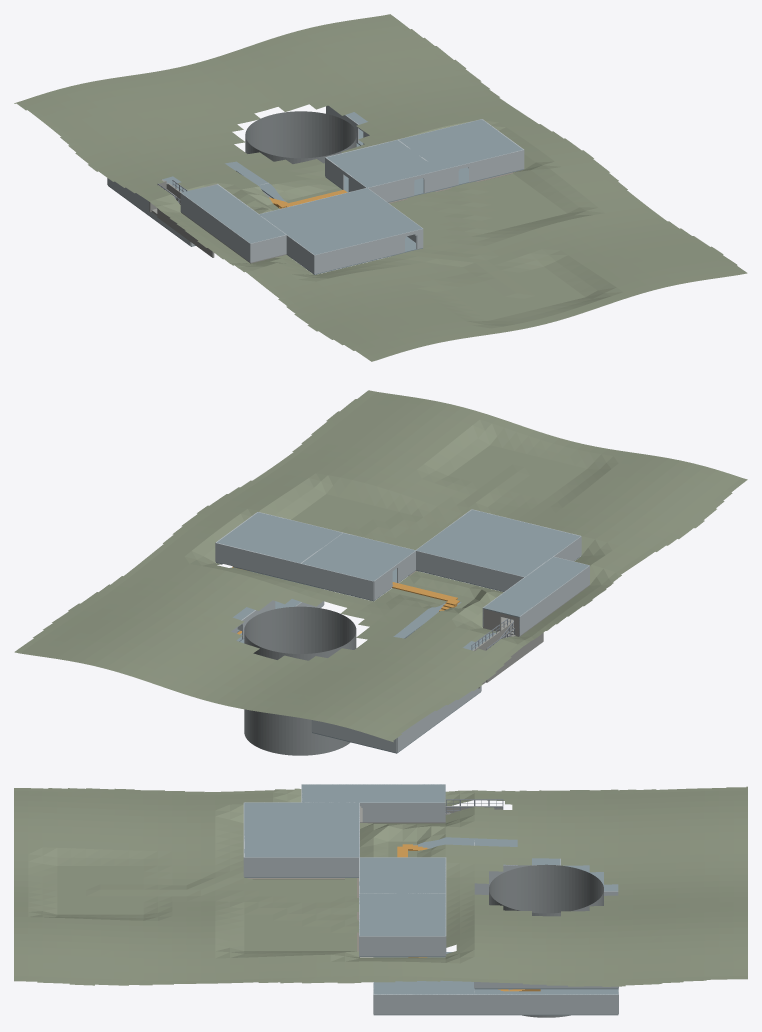
File: constant-cells.glb
3 renders of one model, top to bottom at view 1: azimuth 30°, elevation 25°; view 2: azimuth 150°, elevation 25°; view 3: azimuth 270°, elevation 25°, orthographic. The views are drawn at different scales.
Visible parts, largest first — view 1: Saved editor rectangular stair-cell terrain WLD-18, Ceiling cap servicehouse, EMPTY SHAFT / guard engineering pending, Ceiling cap shop, Ceiling cap head, Ceiling cap exit, Flat route shell Wall servicehouse S, Wall exit W, Flat route shell Wall shop S.001, Flat route shell Wall head S, Wall exit S, Wall servicehouse W.001; view 2: Saved editor rectangular stair-cell terrain WLD-18, EMPTY SHAFT / guard engineering pending, Ceiling cap servicehouse, Ceiling cap shop, Ceiling cap head, Ceiling cap exit, Flat route shell Wall servicehouse N, Wall shop N, Wall head N, Wall exit W, Wall pump N, Wall pump W; view 3: Saved editor rectangular stair-cell terrain WLD-18, Ceiling cap servicehouse, EMPTY SHAFT / guard engineering pending, Ceiling cap shop, Ceiling cap head, Wall east E, Ceiling cap exit, Wall servicehouse E, Wall plant E, Wall shop E, Flat route shell Wall exit E, Ceiling cap plant (+2 smaller).
Part boxes in pixels (box(x1,y1,x2,y2)): Saved editor rectangular stair-cell terrain WLD-18: box(14, 14, 747, 361); Ceiling cap servicehouse: box(259, 188, 422, 254); EMPTY SHAFT / guard engineering pending: box(245, 111, 356, 256); Ceiling cap shop: box(399, 119, 522, 170); Ceiling cap head: box(326, 140, 438, 187); Ceiling cap exit: box(181, 184, 285, 243); Flat route shell Wall servicehouse S: box(314, 233, 406, 273); Wall exit W: box(180, 193, 250, 262); Flat route shell Wall shop S.001: box(468, 149, 524, 182); Flat route shell Wall head S: box(368, 176, 414, 201); Wall exit S: box(250, 234, 286, 262); Wall servicehouse W.001: box(264, 218, 314, 273); Saved editor rectangular stair-cell terrain WLD-18: box(14, 390, 747, 742); EMPTY SHAFT / guard engineering pending: box(244, 606, 356, 755); Ceiling cap servicehouse: box(416, 509, 580, 576); Ceiling cap shop: box(217, 512, 341, 563); Ceiling cap head: box(302, 533, 415, 581); Ceiling cap exit: box(483, 557, 589, 617); Flat route shell Wall servicehouse N: box(416, 550, 523, 591); Wall shop N: box(215, 542, 300, 582); Wall head N: box(300, 563, 373, 600); Wall exit W: box(519, 565, 589, 635); Wall pump N: box(311, 720, 396, 752); Wall pump W: box(397, 709, 439, 752); Saved editor rectangular stair-cell terrain WLD-18: box(14, 786, 747, 986); Ceiling cap servicehouse: box(244, 802, 359, 857); EMPTY SHAFT / guard engineering pending: box(489, 864, 603, 1017); Ceiling cap shop: box(359, 894, 445, 936); Ceiling cap head: box(359, 857, 445, 893); Wall east E: box(474, 994, 618, 1014); Ceiling cap exit: box(302, 784, 445, 802); Wall servicehouse E: box(244, 857, 358, 877); Wall plant E: box(373, 994, 474, 1014); Wall shop E: box(359, 936, 445, 956); Flat route shell Wall exit E: box(361, 802, 445, 822); Ceiling cap plant: box(373, 952, 474, 994).
Bounding box in the file's own units: 64 × 19 × 102.
Materials: 31 (18 with a texture image).
